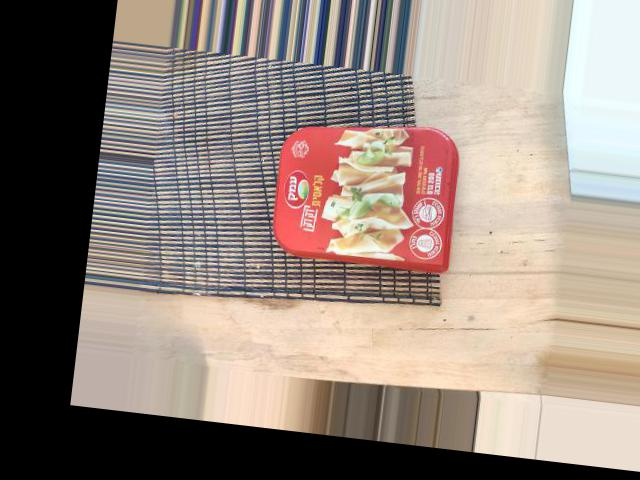cheese: (200, 62, 347, 263)
